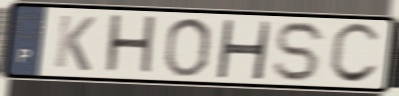C: (326, 20, 384, 87)
H: (212, 18, 273, 82), (102, 12, 159, 79)
K: (51, 12, 99, 74)
O: (161, 16, 215, 79)
S: (272, 19, 331, 84)
